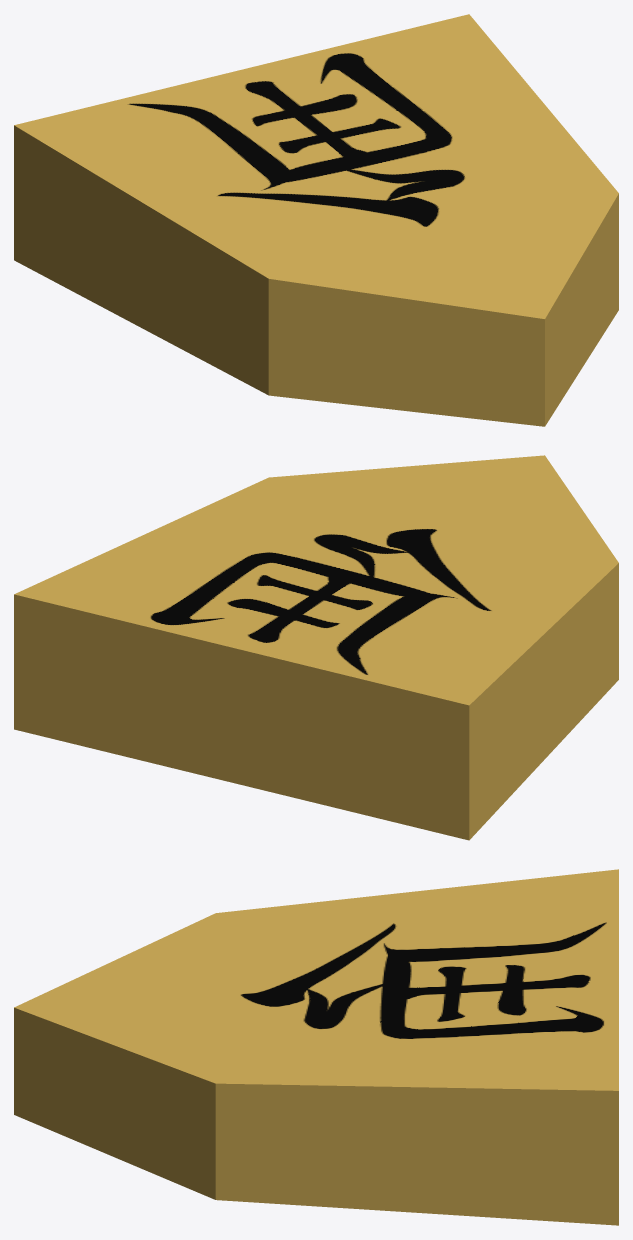
Rendered from kaku.obj.
The picture shows the model from 3 angles, top to bottom: view 1: azimuth 30°, elevation 25°; view 2: azimuth 150°, elevation 25°; view 3: azimuth 270°, elevation 25°; orthographic projection.
Visible parts, largest first — view 1: Cube.007_Cube.021; view 2: Cube.007_Cube.021; view 3: Cube.007_Cube.021.
Boxes of the visible parts, box(x1,y1,x2,y2) form: Cube.007_Cube.021: box(14, 14, 618, 426); Cube.007_Cube.021: box(14, 455, 618, 840); Cube.007_Cube.021: box(14, 869, 618, 1225).
Bounding box in the file's own units: 2.6 × 0.7371 × 3.
